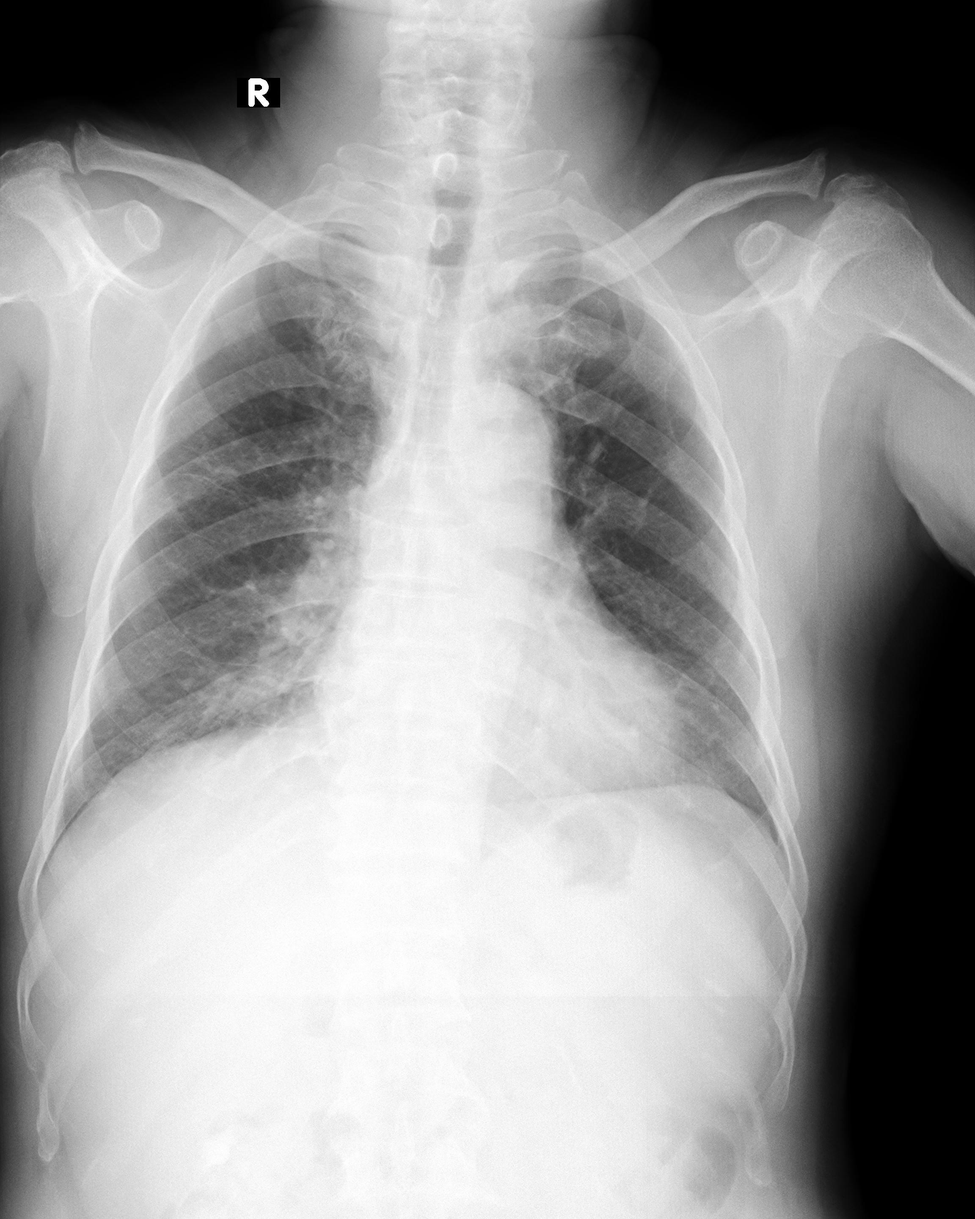Aortic enlargement: (440, 376, 566, 533)
Cardiomegaly: (311, 647, 685, 798)
Pleural thickening: (504, 233, 628, 270), (282, 215, 387, 252)
